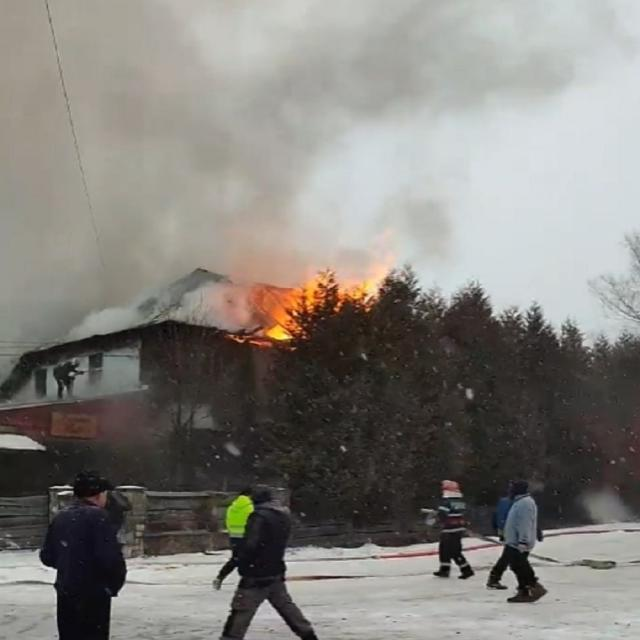Fire: (266, 268, 324, 340), (222, 496, 256, 538)
Smoke: (6, 0, 640, 285)
